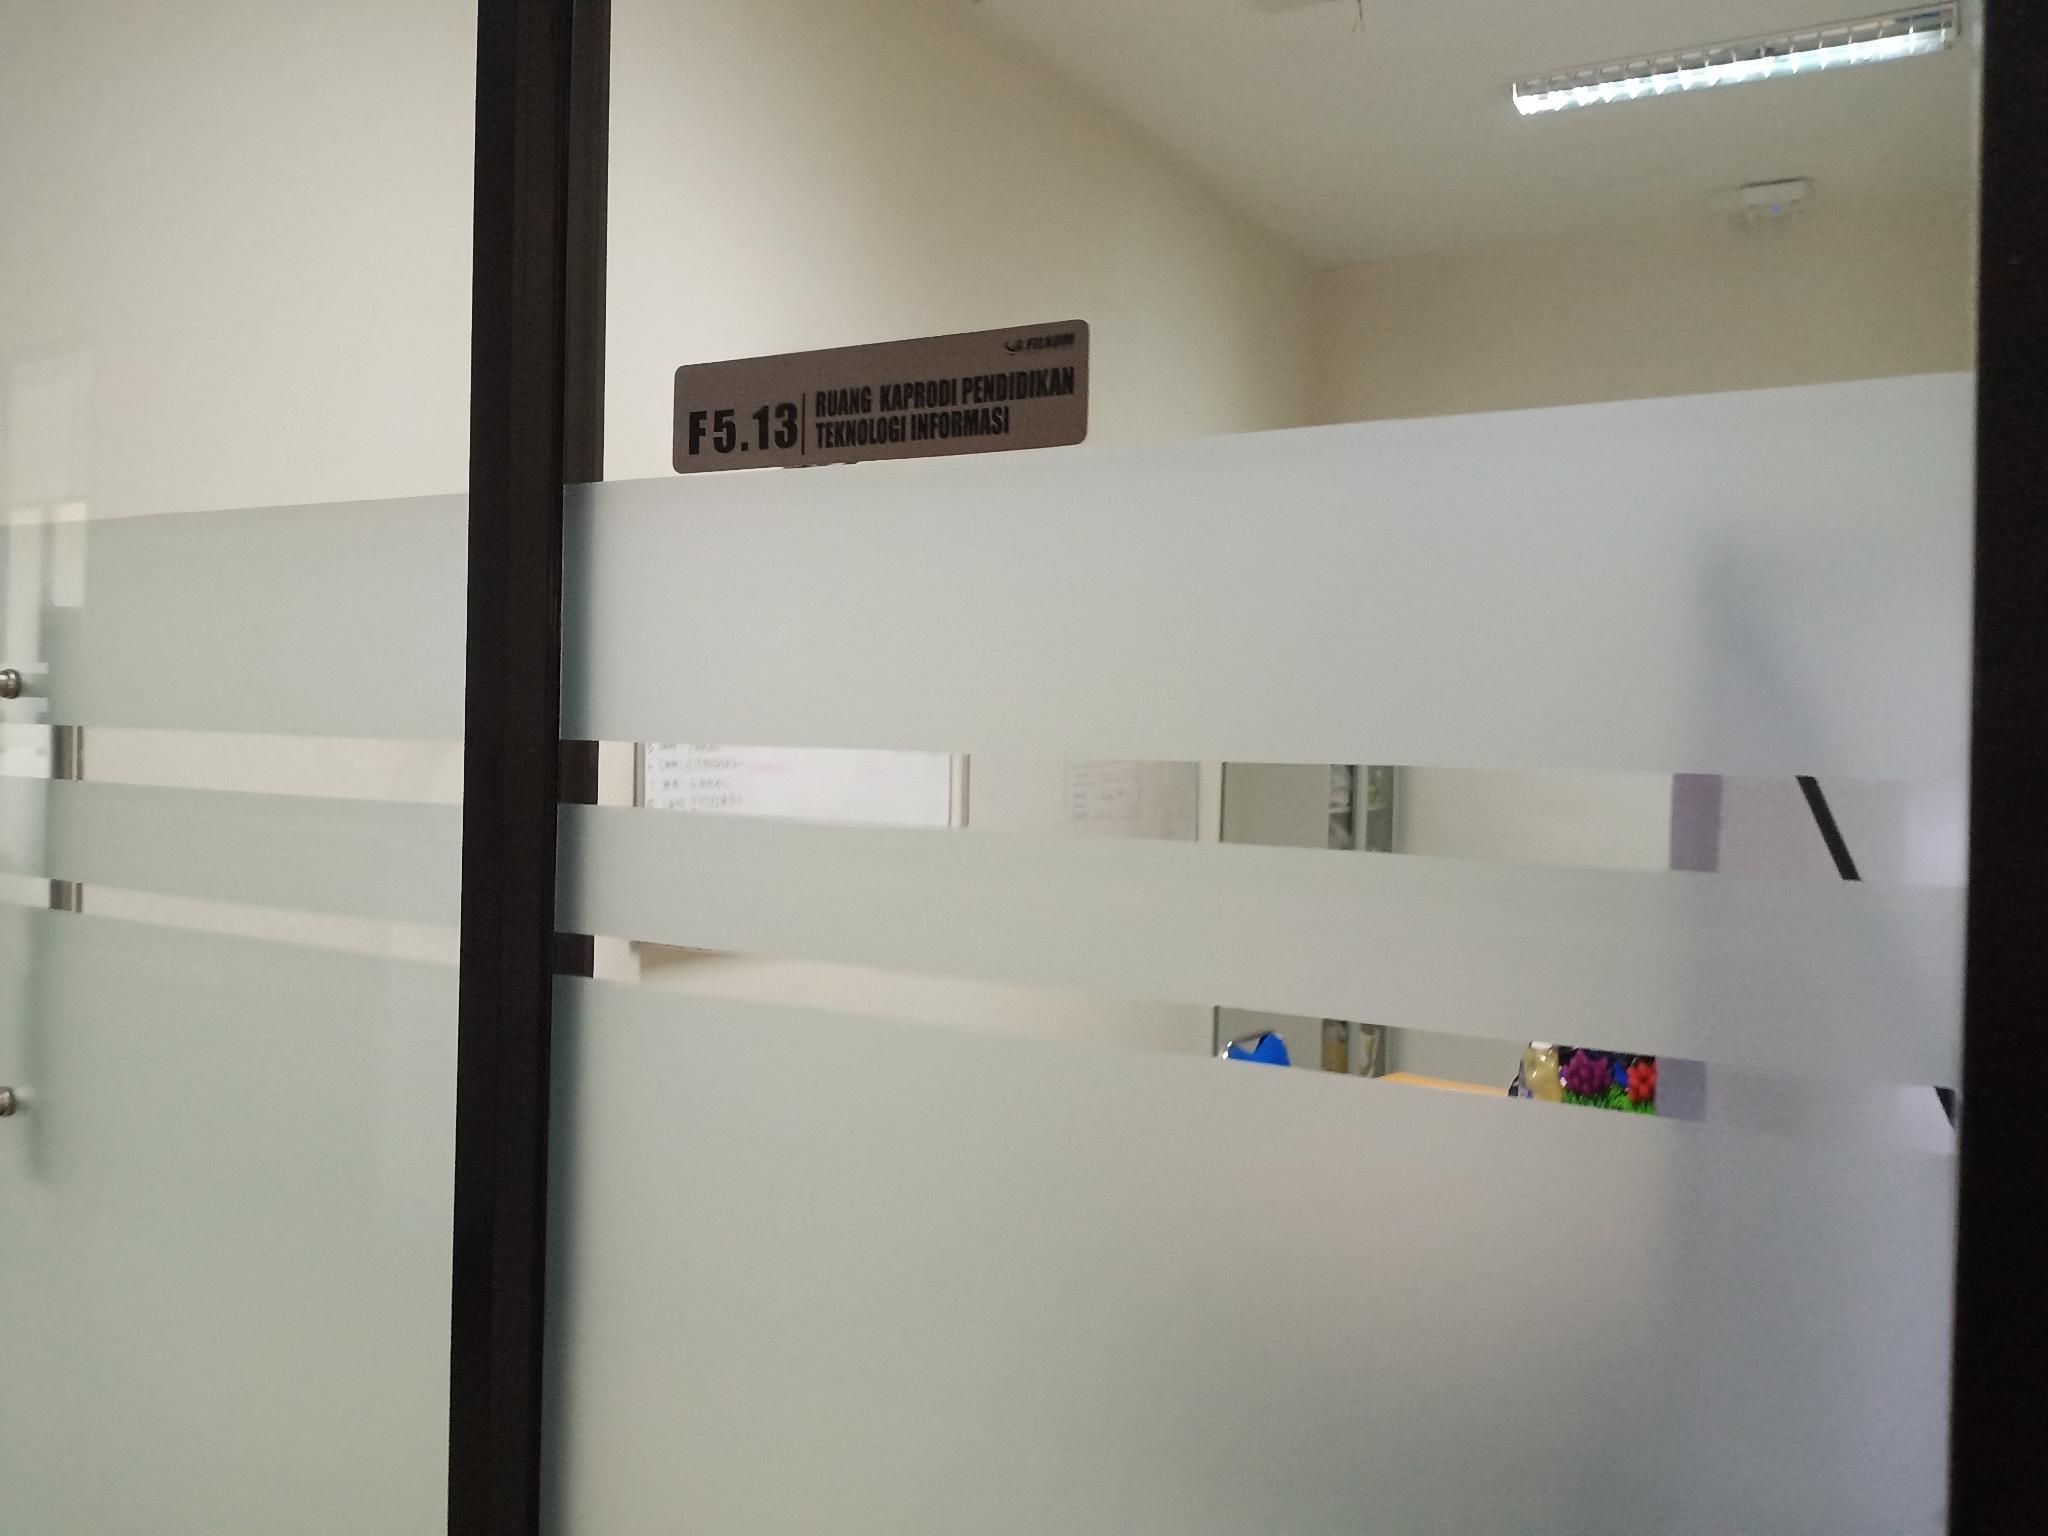plate: (672, 319, 1090, 474)
